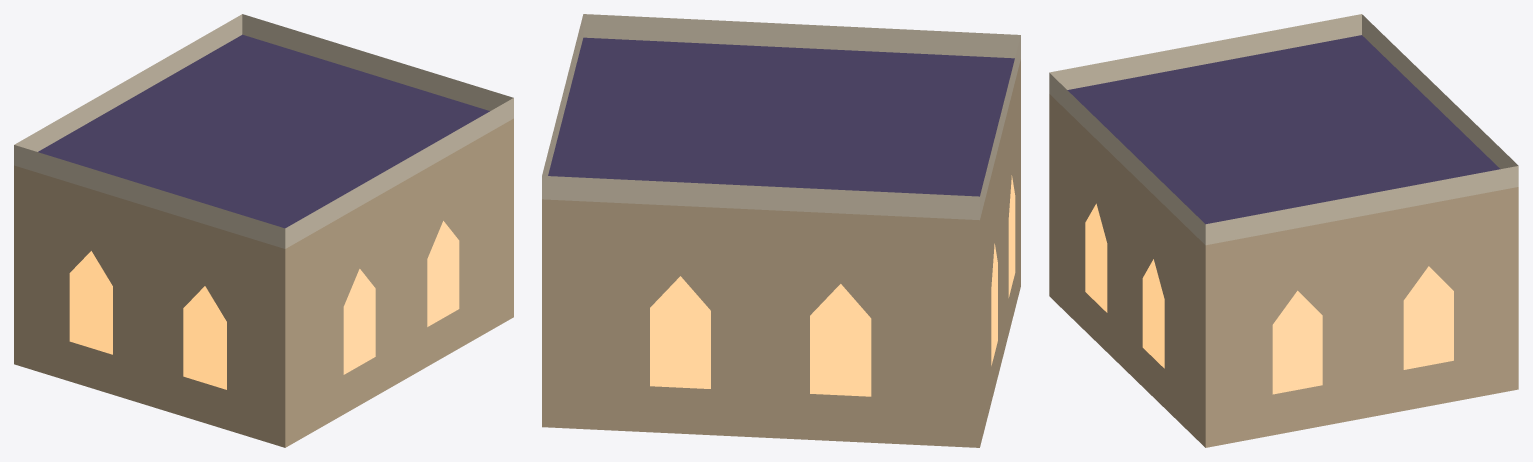
The picture shows the model from 3 angles, left to right: view 1: azimuth 30°, elevation 25°; view 2: azimuth 150°, elevation 25°; view 3: azimuth 270°, elevation 25°; orthographic projection. The views are drawn at different scales.
Parts seen in each view (by area): view 1: campus/b-002-0; view 2: campus/b-002-0; view 3: campus/b-002-0.
Boxes of the visible parts, x1=… form: campus/b-002-0: x1=14, y1=14, x2=513, y2=447; campus/b-002-0: x1=542, y1=14, x2=1020, y2=447; campus/b-002-0: x1=1049, y1=14, x2=1518, y2=447.
Size of the model in its own units: 11.8 by 5.85 by 11.13.
